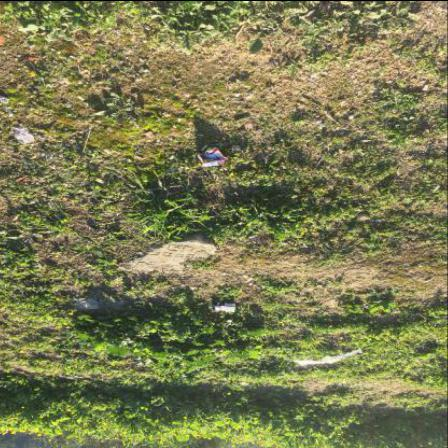Carton: (199, 147, 229, 167), (213, 302, 237, 313)
Cigarette: (202, 145, 209, 151)
Plastic bag - wrapper: (296, 349, 364, 365)
